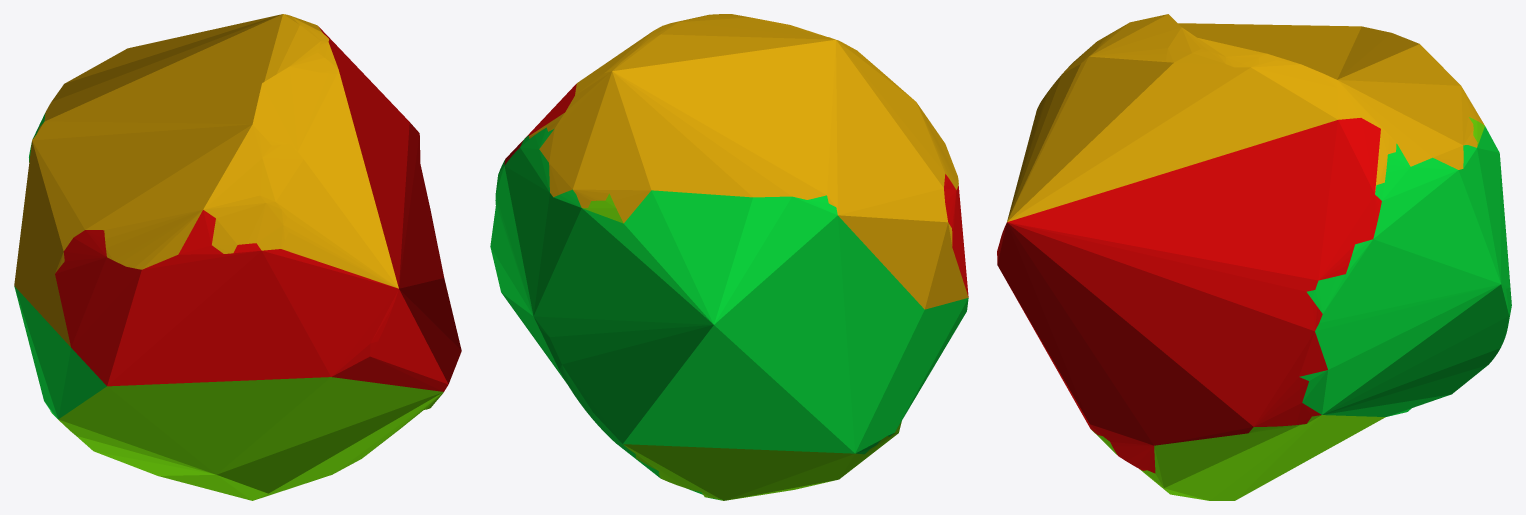
The model's file is SphereH_L6.fbx.
3 views of the same model, side by side, from view 1: azimuth 30°, elevation 25°; view 2: azimuth 150°, elevation 25°; view 3: azimuth 270°, elevation 25° (orthographic). The views are drawn at different scales.
Size of the model in its own units: 1.98 by 1.95 by 1.96.
